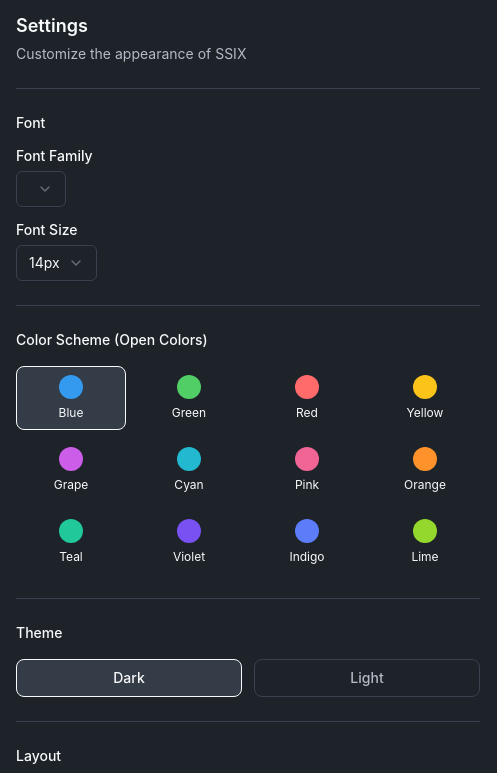
Test: SettingsPanel › debounced persistence › coalesces rapid edits into one save carrying the final state
Click the radio button labelled "light": (367, 678) 254,659 -> 480,697
Wait 100 ms
(page scrolled)
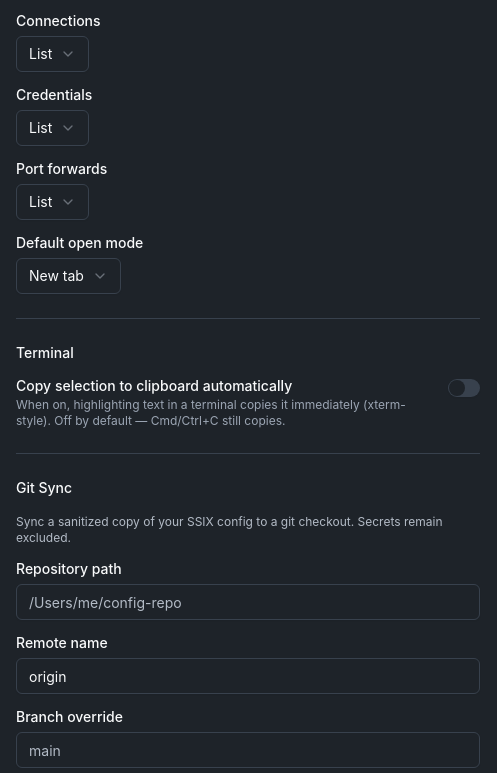
Click the switch named "copy selection to clipboard": (464, 388) 448,379 -> 480,397
Wait 100 ms
(page scrolled)
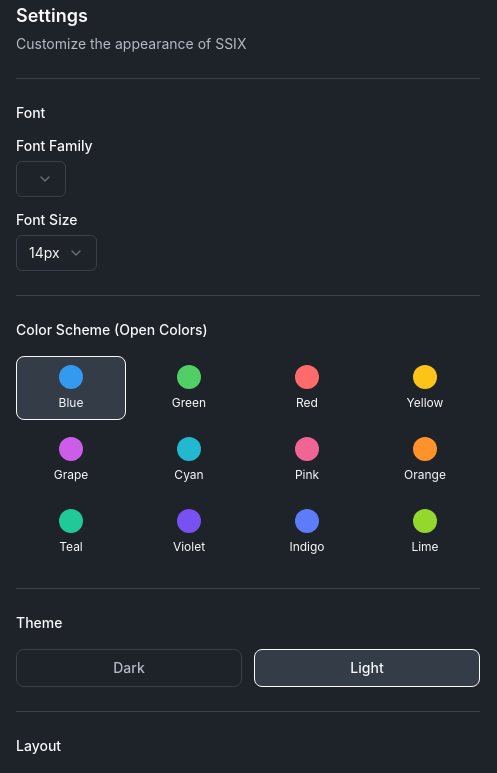
Click the radio button labelled "green": (189, 388) 134,356 -> 244,420
Wait 400 ms
(page scrolled)
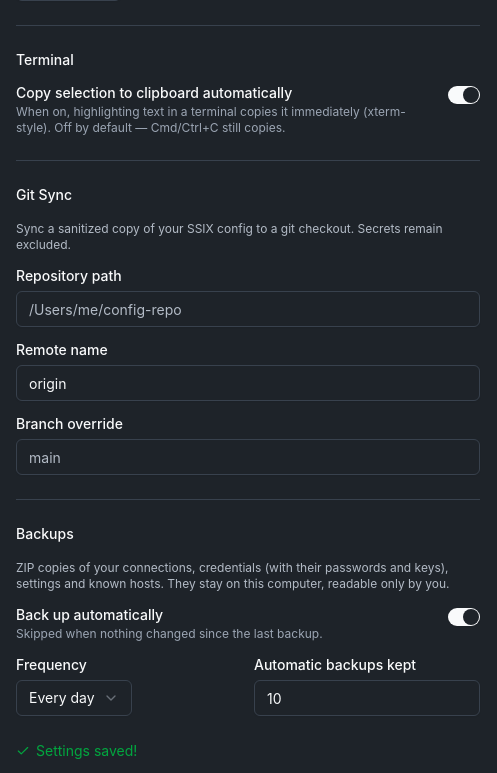
Now the message shows "Settings saved", box 36,742 -> 137,759
